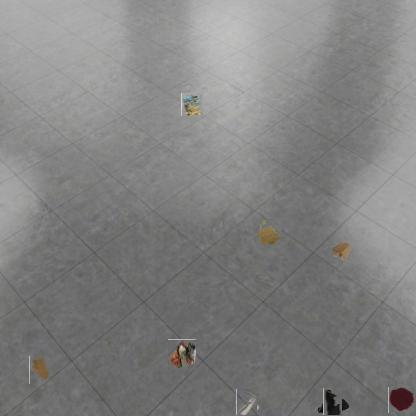dirty: (168, 340, 197, 369), (319, 392, 346, 416), (234, 391, 259, 416), (29, 356, 50, 384), (181, 93, 203, 116), (330, 240, 352, 262)
liquid: (253, 219, 281, 245), (388, 388, 415, 414)
